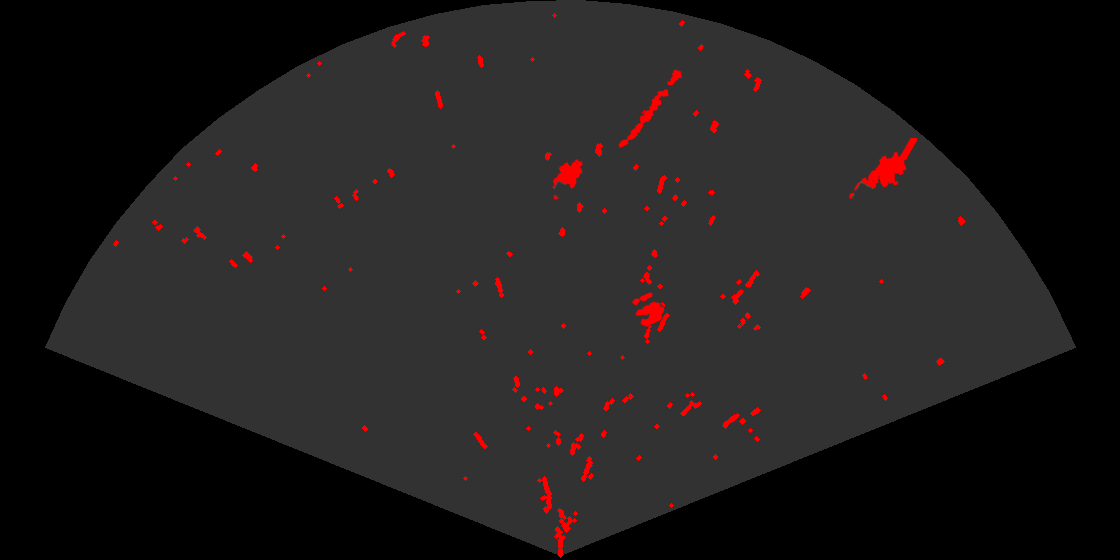AUV: (551, 157, 584, 201)
ball: (630, 291, 666, 328)
chain: (617, 68, 683, 149)
frogman: (847, 138, 917, 201)
